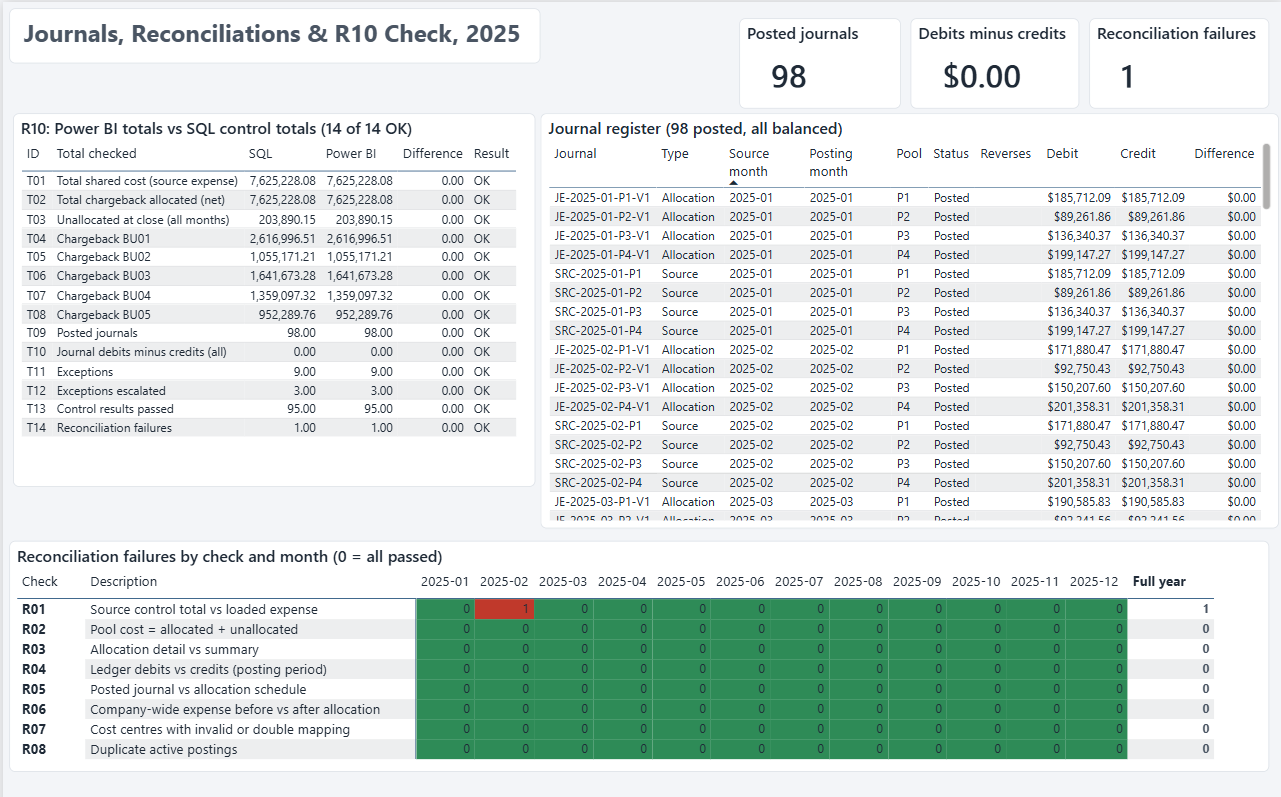

What the dashboard file says about the page in this screenshot:
{"tool":"powerbi","page":{"name":"Journals & Reconciliation","canvas":[1280,1100],"ordinal":3},"visuals":[{"type":"cardVisual","title":"Posted journals","fields":{"Data":["Report Measures.Posted Journals"]},"box":[736.2,16.2,161.2,90],"z":0},{"type":"cardVisual","title":"Reconciliation failures","fields":{"Data":["Report Measures.Recon Failures"]},"box":[1086.2,16.2,180,90],"z":1000},{"type":"cardVisual","title":"Debits minus credits","fields":{"Data":["Report Measures.Journal Difference"]},"box":[907.5,16.2,168.8,90],"z":2000},{"type":"tableEx","title":"Journal register (98 posted, all balanced)","fields":{"Values":["Journals.journal_id","Journals.journal_type","Journals.source_period","Journals.posting_period","Journals.pool_code","Journals.status","Journals.reverses_journal","Journals.total_debit","Journals.total_credit","Journals.difference"]},"box":[537.5,111.2,738.8,415],"z":3000},{"type":"pivotTable","title":"Reconciliation failures by check and month (0 = all passed)","fields":{"Rows":["Reconciliations.recon_id","Reconciliations.recon_name"],"Columns":["DimPeriod.period"],"Values":["Report Measures.Recon Failures"]},"box":[6.2,538.8,1260,231.2],"z":4000},{"type":"tableEx","title":"R10: Power BI totals vs SQL control totals (14 of 14 OK)","fields":{"Values":["ControlTotals.total_id","ControlTotals.description","Report Measures.SQL Value","Report Measures.Power BI Value","Report Measures.R10 Difference","Report Measures.R10 Result"]},"box":[10,111.2,522.5,373.8],"z":5000},{"type":"textbox","box":[6,6,531.2,55],"z":6000}]}

Visuals, with their boxes on the page's 1280x1100 design canvas (x1, y1, x2, y2). These are canvas units, not pixel positions in the 1281x797 screenshot, which may show the page scaled, cropped or inside an application window:
"Posted journals" cardVisual: bbox(736, 16, 897, 106)
"Reconciliation failures" cardVisual: bbox(1086, 16, 1266, 106)
"Debits minus credits" cardVisual: bbox(908, 16, 1076, 106)
"Journal register (98 posted, all balanced)" tableEx: bbox(538, 111, 1276, 526)
"Reconciliation failures by check and month (0 = all passed)" pivotTable: bbox(6, 539, 1266, 770)
"R10: Power BI totals vs SQL control totals (14 of 14 OK)" tableEx: bbox(10, 111, 532, 485)
textbox: bbox(6, 6, 537, 61)
